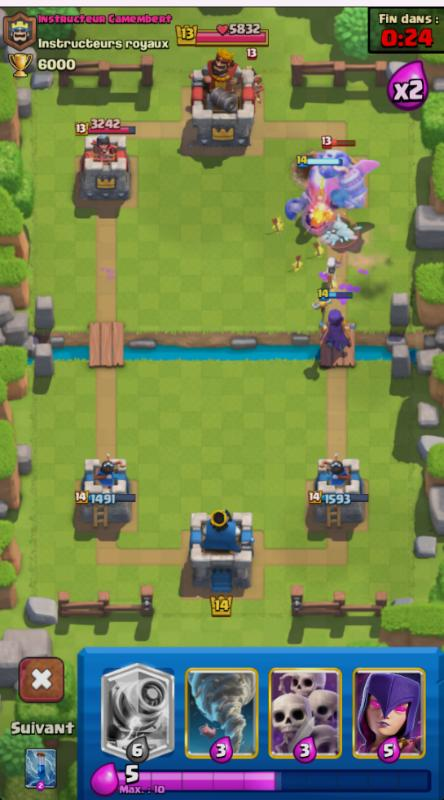squelette: (327, 257, 339, 275)
